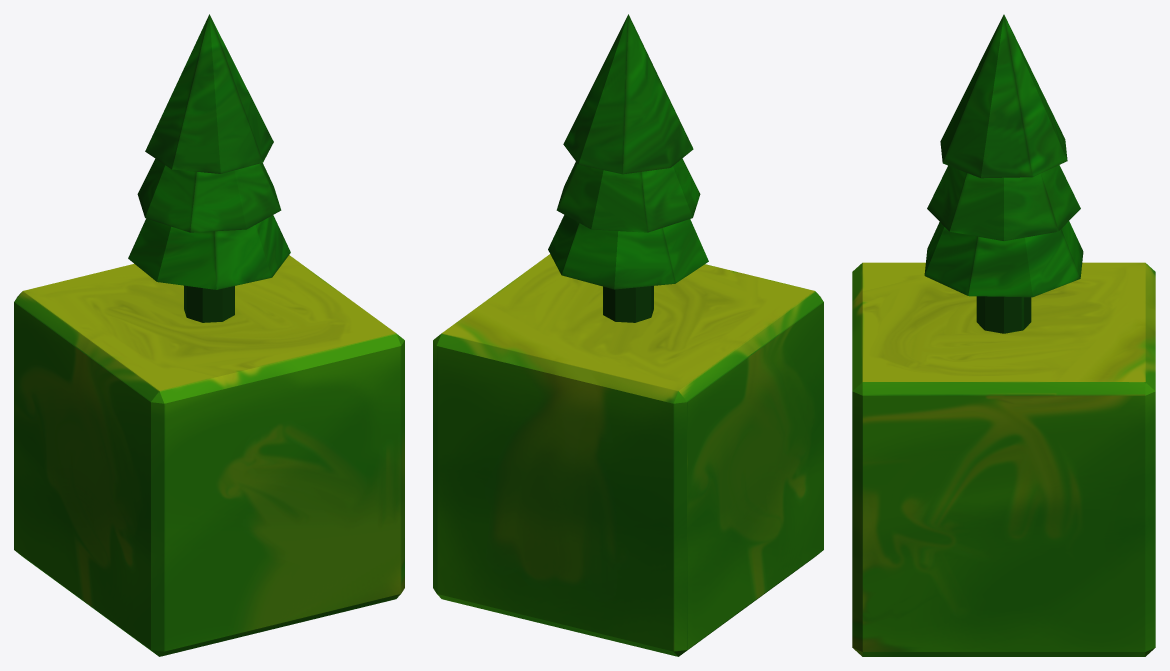
The model's file is BlockWithTree.fbx.
3 renders of one model, left to right at view 1: azimuth 30°, elevation 25°; view 2: azimuth 150°, elevation 25°; view 3: azimuth 270°, elevation 25°, orthographic. The views are drawn at different scales.
Visible parts, largest first — view 1: TreeBlock; view 2: TreeBlock; view 3: TreeBlock.
Boxes of the visible parts, x1,y1,x2,y2 form: TreeBlock: [14, 14, 404, 656]; TreeBlock: [433, 14, 823, 656]; TreeBlock: [852, 14, 1155, 656].
Size of the model in its own units: 200 by 424 by 200.
